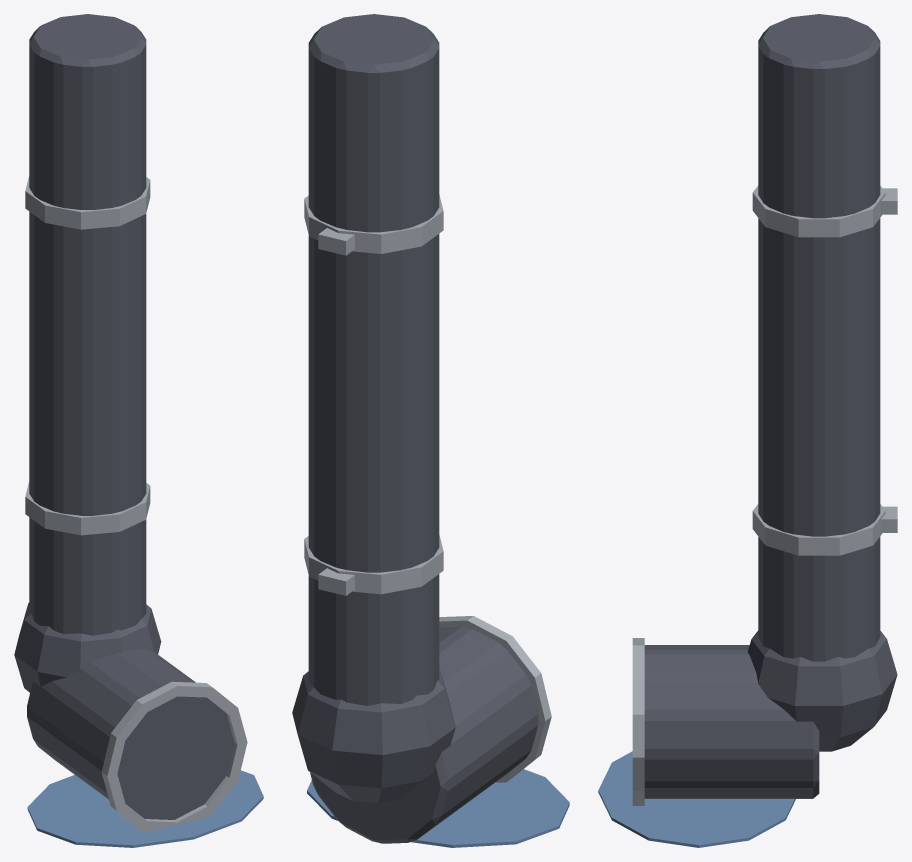
The model's file is CatCafe_Alley_Drainpipe.glb.
The picture shows the model from 3 angles, left to right: view 1: azimuth 30°, elevation 25°; view 2: azimuth 150°, elevation 25°; view 3: azimuth 270°, elevation 25°; orthographic projection. The views are drawn at different scales.
Visible parts, largest first — view 1: CatCafe_Alley_Drainpipe; view 2: CatCafe_Alley_Drainpipe; view 3: CatCafe_Alley_Drainpipe.
Boxes of the visible parts, x1,y1,x2,y2 form: CatCafe_Alley_Drainpipe: (14,14,263,847); CatCafe_Alley_Drainpipe: (292,14,569,847); CatCafe_Alley_Drainpipe: (598,14,897,847).
Size of the model in its own units: 2.6 by 8.36 by 2.98.
Materials: 1 (1 with a texture image).
